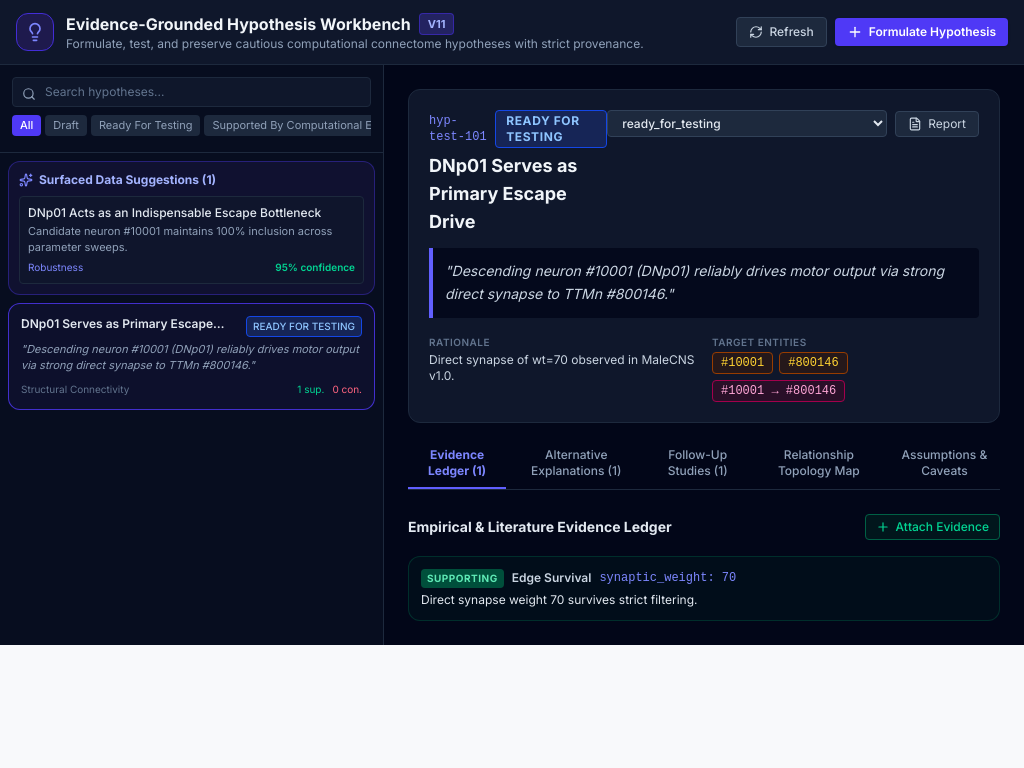
it: HypothesisWorkbench (V11) Component › switches between detail tabs cleanly
The image size is (1024, 768).
Expected: the text "Direct synapse weight 70 survives strict filtering." is shown, [421,592,736,608]
Click Alternatives Tab
Click the button "Alternative Explanations (1)" at (576, 468), box [514,446,638,488]
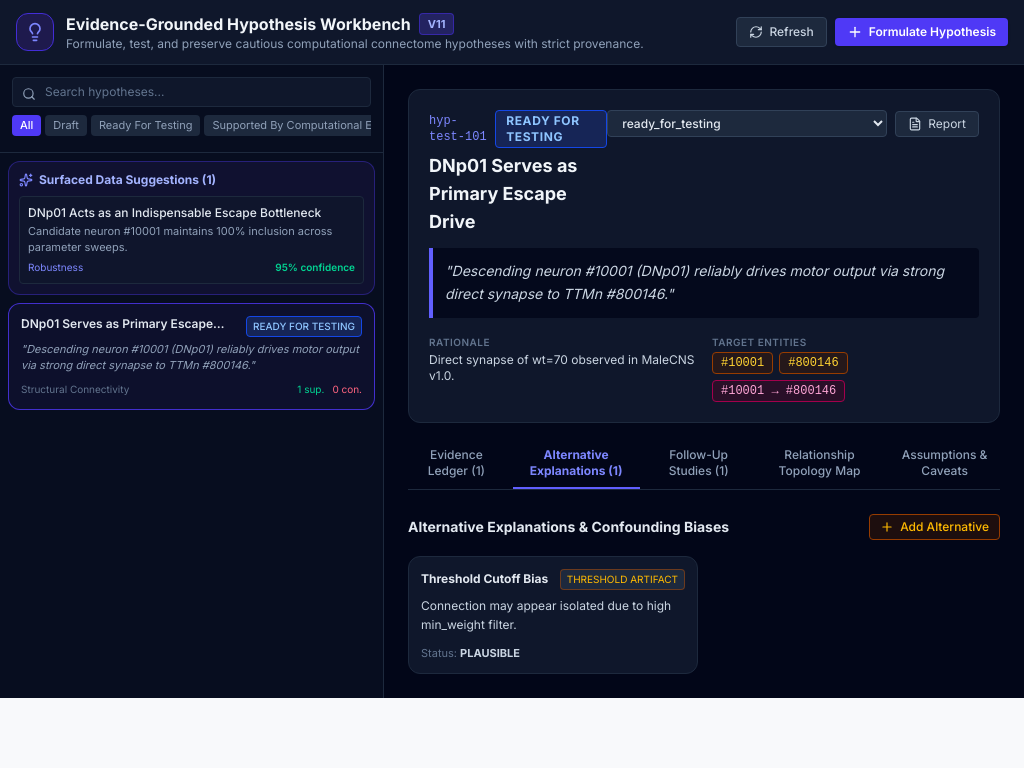
Expected: the text "Threshold Cutoff Bias" is shown, [421,571,548,587]
Click Studies Tab
Click the button "Follow-Up Studies (1)" at (699, 468), box [648,446,750,488]
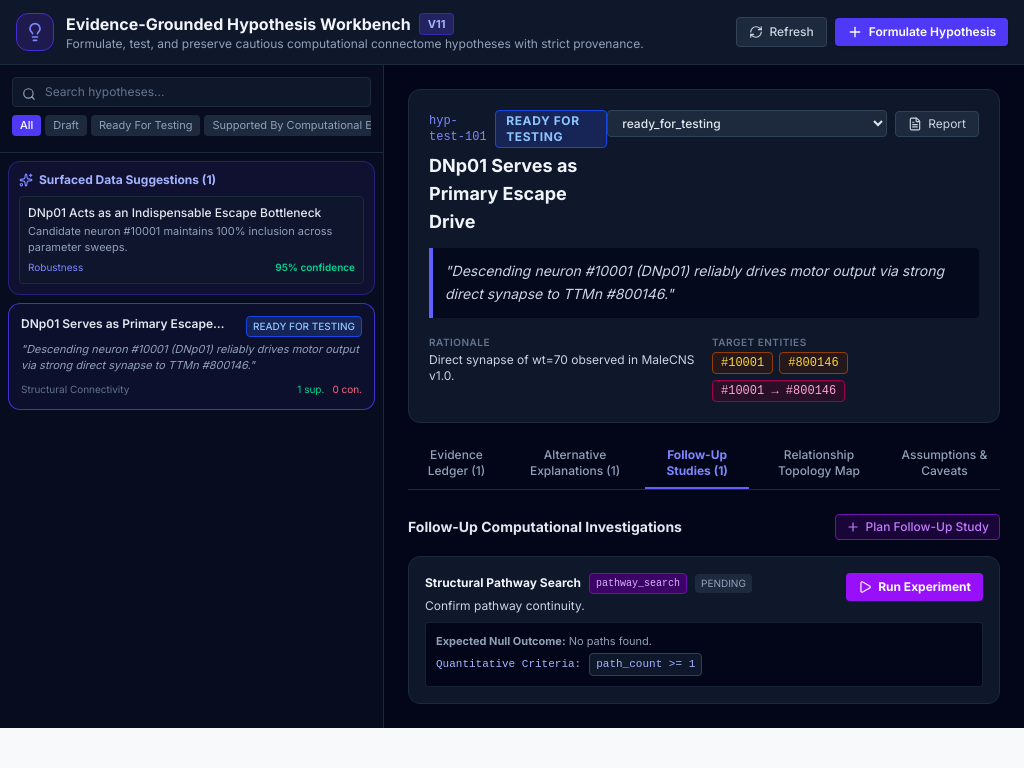
Expected: the text "Structural Pathway Search" is shown, [425,575,581,591]
Click Limitations Tab
Click the button "Assumptions & Caveats" at (944, 468), box [889,446,1000,488]
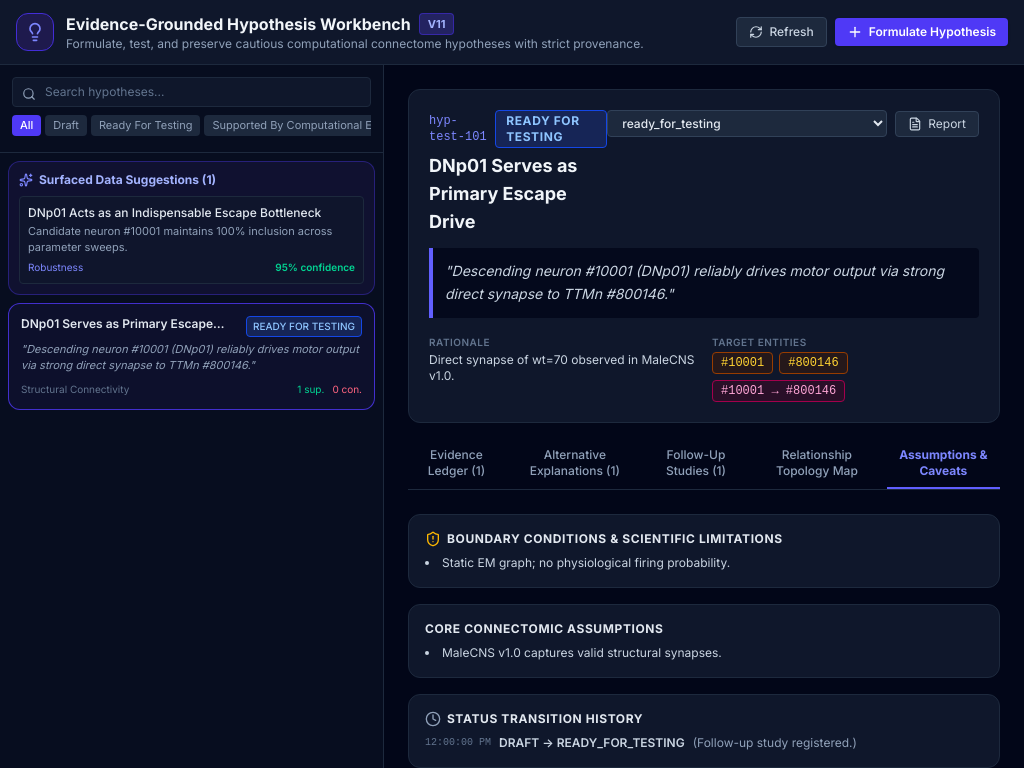
Expected: the list item "Static EM graph; no physiological firing probability." is shown, [442,554,730,570]
